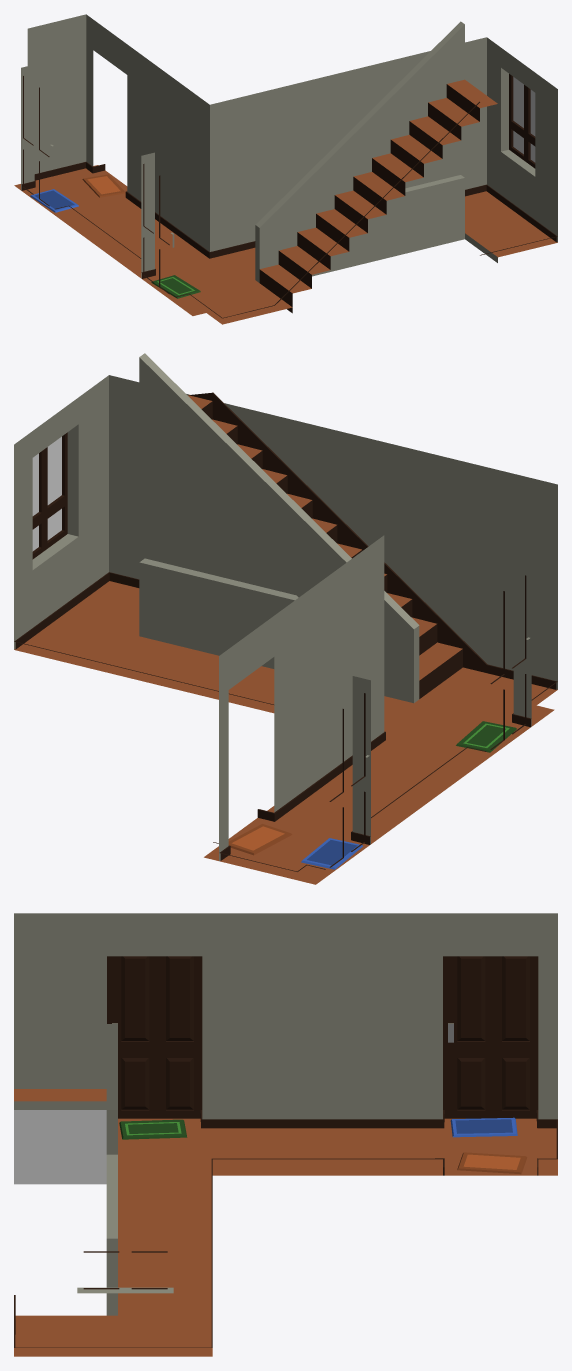
Rendered from corridor.glb.
3 views of the same model, one above another, from view 1: azimuth 30°, elevation 25°; view 2: azimuth 150°, elevation 25°; view 3: azimuth 270°, elevation 25° (orthographic). The views are drawn at different scales.
Parts seen in each view (by area): view 1: corridor; view 2: corridor; view 3: corridor.
Boxes of the visible parts, x1,y1,x2,y2 form: corridor: (14,14,557,324); corridor: (14,353,557,884); corridor: (14,913,557,1356).
Bounding box in the file's own units: 6.15 × 3.5 × 5.75.
